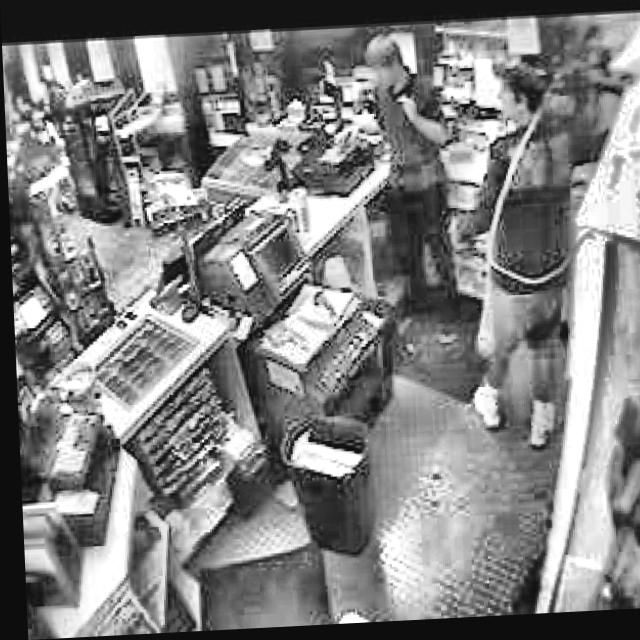robbery: (320, 35, 450, 158)
